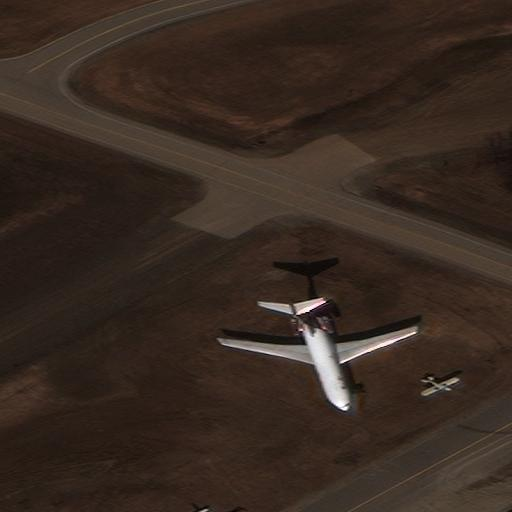Medium Civil Transport: (218, 302, 420, 412)
Small Civil Transport: (424, 376, 459, 397)
